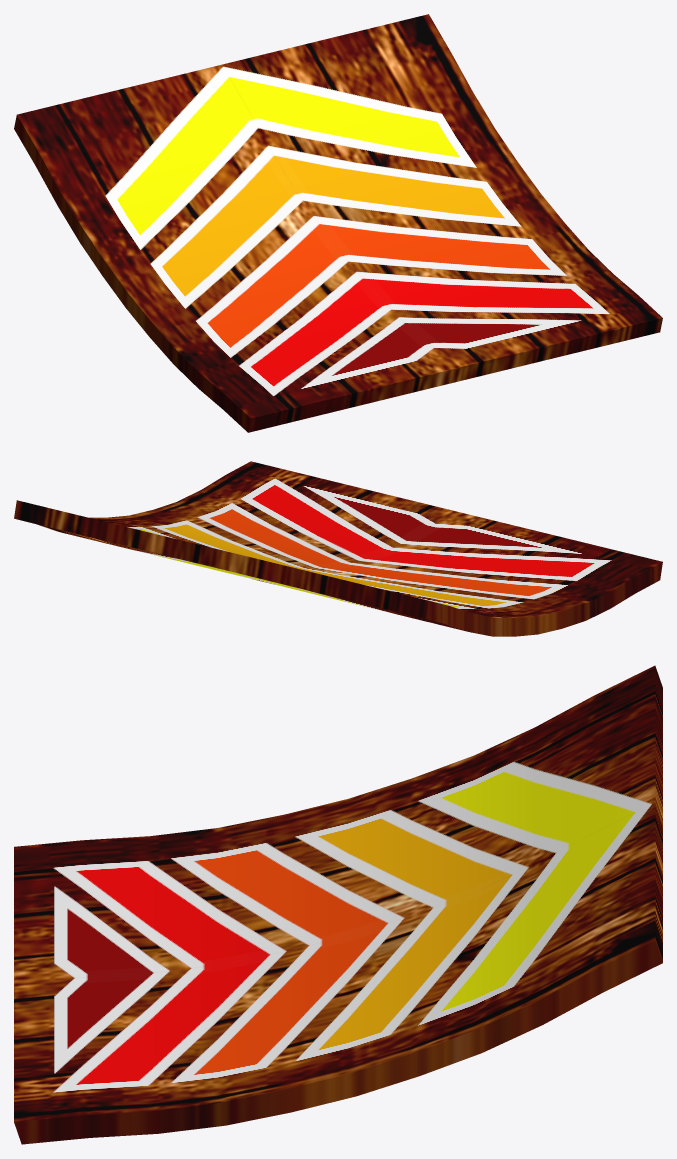
File: jump.fbx
3 renders of one model, top to bottom at view 1: azimuth 30°, elevation 25°; view 2: azimuth 150°, elevation 25°; view 3: azimuth 270°, elevation 25°, orthographic. The views are drawn at different scales.
Parts seen in each view (by area): view 1: pCube1; view 2: pCube1; view 3: pCube1.
Boxes of the visible parts, box(x1,y1,x2,y2) form: pCube1: box(14, 14, 662, 432); pCube1: box(14, 461, 662, 636); pCube1: box(14, 665, 662, 1144).
Bounding box in the file's own units: 16.83 × 5.81 × 16.77.
1 material, 1 textured.
